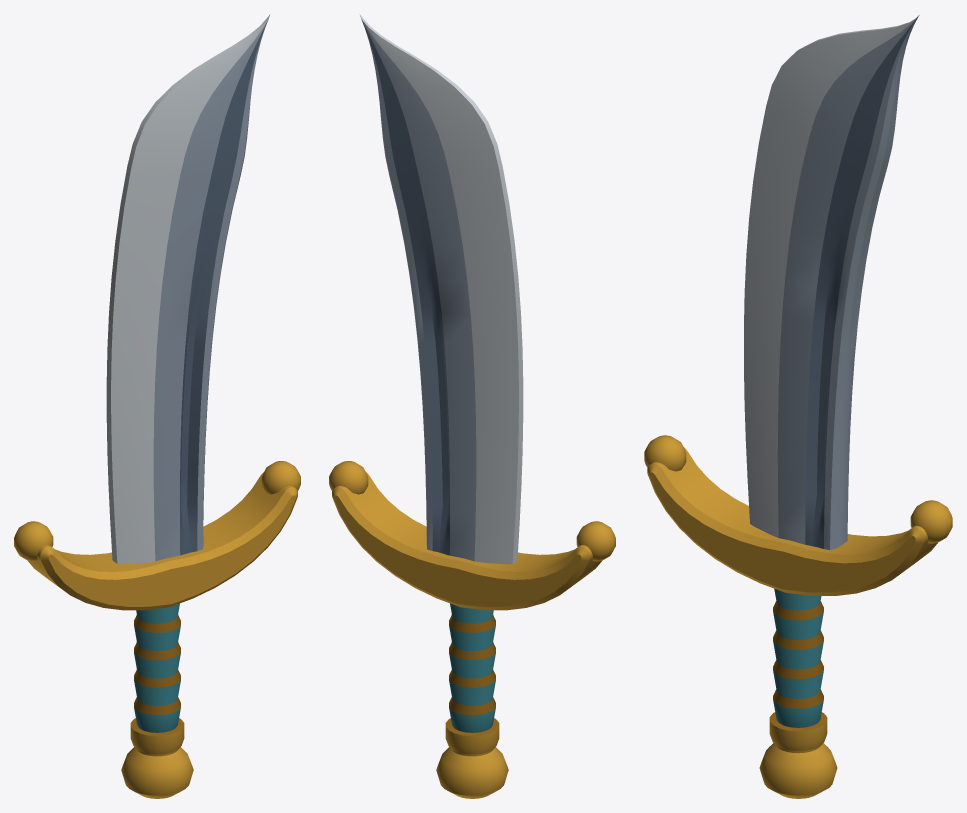
File: Scimitar_06.glb
3 views of the same model, side by side, from view 1: azimuth 30°, elevation 25°; view 2: azimuth 150°, elevation 25°; view 3: azimuth 330°, elevation 25° (orthographic). The views are drawn at different scales.
Parts seen in each view (by area): view 1: Scimitar_06; view 2: Scimitar_06; view 3: Scimitar_06.
Boxes of the visible parts, <box> form: Scimitar_06: <box>14,14,300,798</box>; Scimitar_06: <box>329,14,615,798</box>; Scimitar_06: <box>644,15,952,798</box>.
Size of the model in its own units: 2.42 by 6.17 by 0.54.
